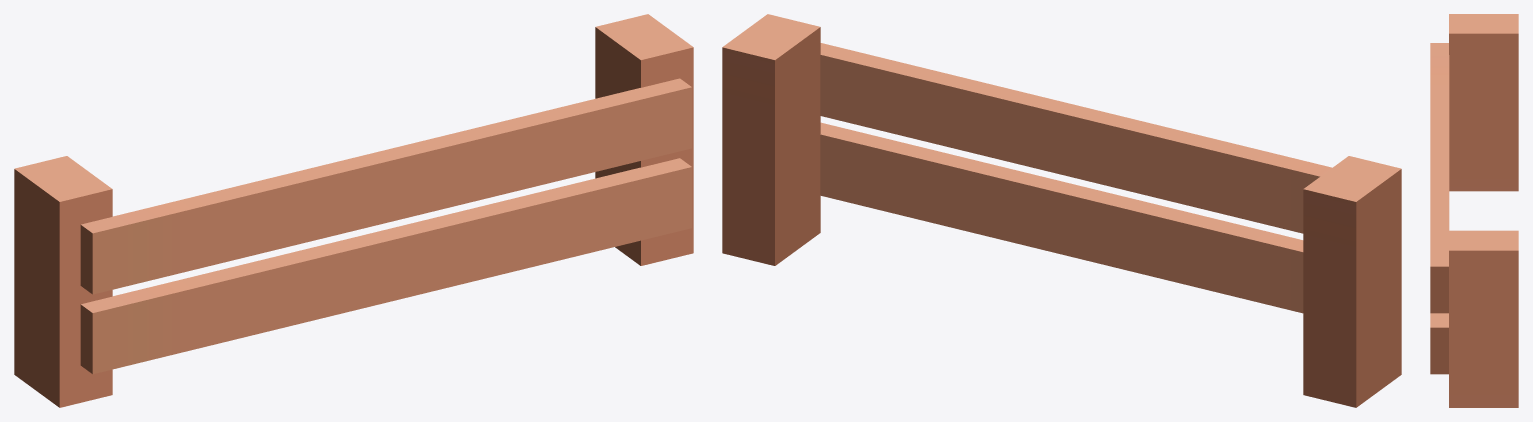
The model's file is fence.fbx.
3 views of the same model, side by side, from view 1: azimuth 30°, elevation 25°; view 2: azimuth 150°, elevation 25°; view 3: azimuth 270°, elevation 25° (orthographic). The views are drawn at different scales.
Visible parts, largest first — view 1: fence; view 2: fence; view 3: fence.
Part boxes in pixels (x1=…): fence: x1=14, y1=14, x2=693, y2=407; fence: x1=722, y1=14, x2=1401, y2=407; fence: x1=1430, y1=14, x2=1518, y2=407.
Size of the model in its own units: 427 by 132 by 67.19.
